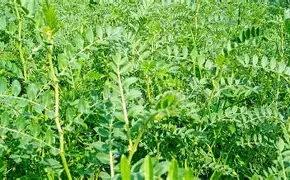crops: (0, 0, 285, 176), (221, 108, 290, 176), (125, 92, 181, 171), (0, 81, 58, 149), (87, 104, 132, 176), (74, 0, 152, 39), (50, 33, 94, 98), (141, 0, 206, 42), (8, 0, 32, 84), (212, 73, 263, 109), (193, 137, 236, 179), (58, 91, 96, 127), (136, 54, 163, 103), (233, 0, 268, 35), (183, 46, 210, 82), (166, 156, 196, 178), (276, 7, 286, 55), (83, 68, 104, 81)
